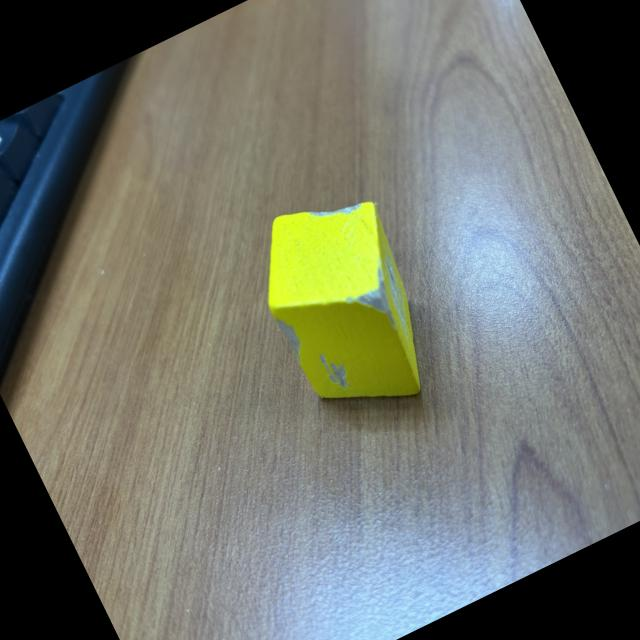broken: (233, 175, 458, 436)
